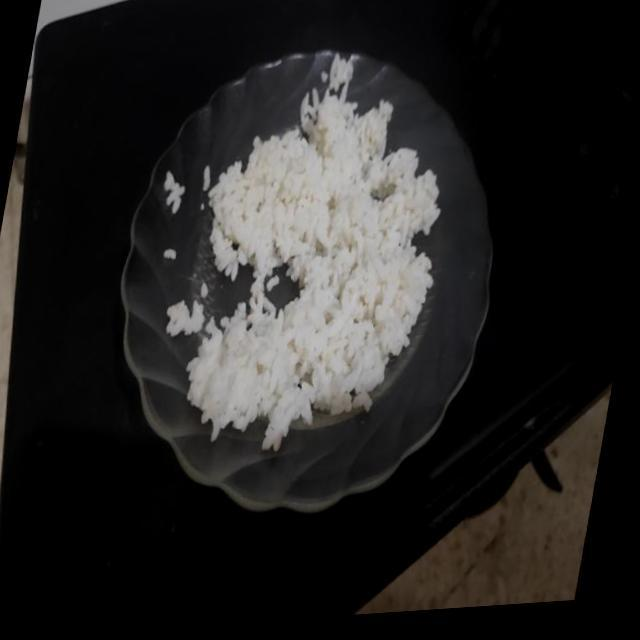nasi_putih: (187, 84, 440, 450)
